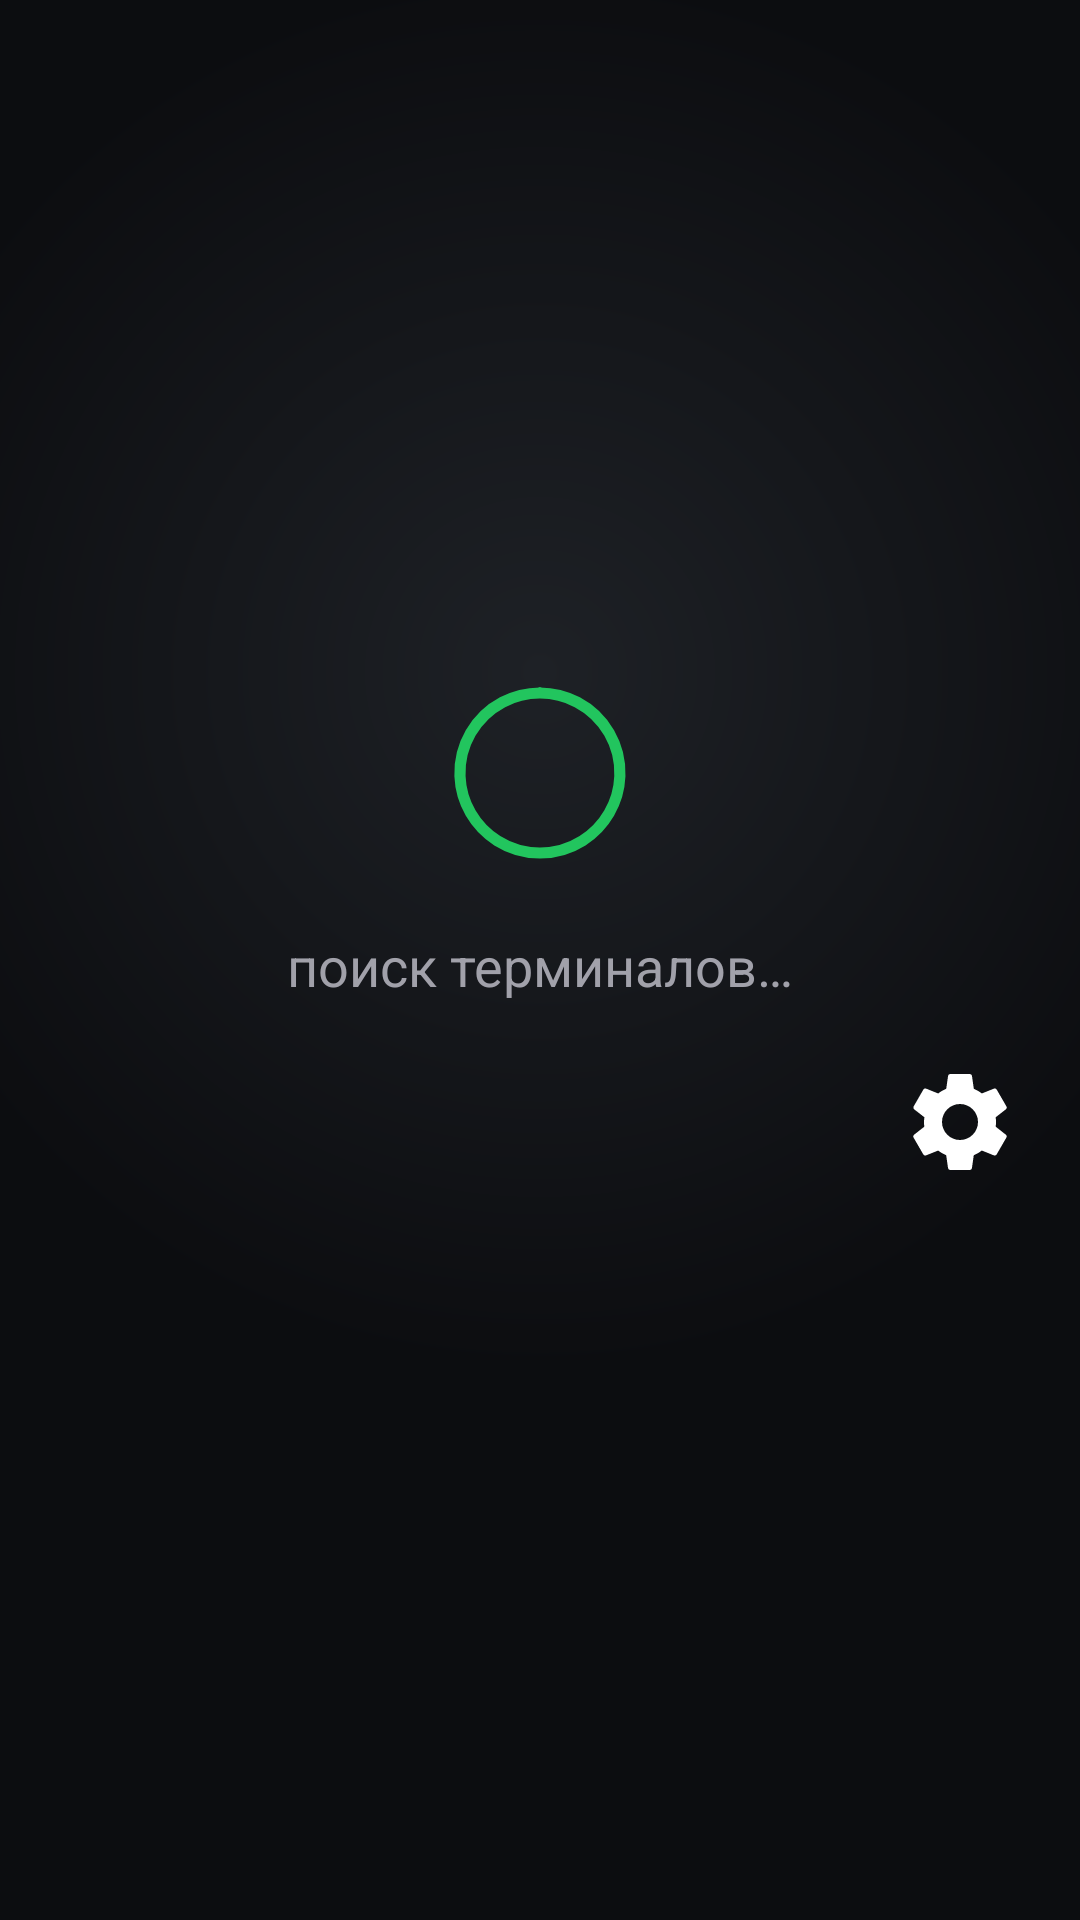

Screen size 1080px×1920px. Icon name, then its center in pixels as (x,y):
настройки: (960,1122)
